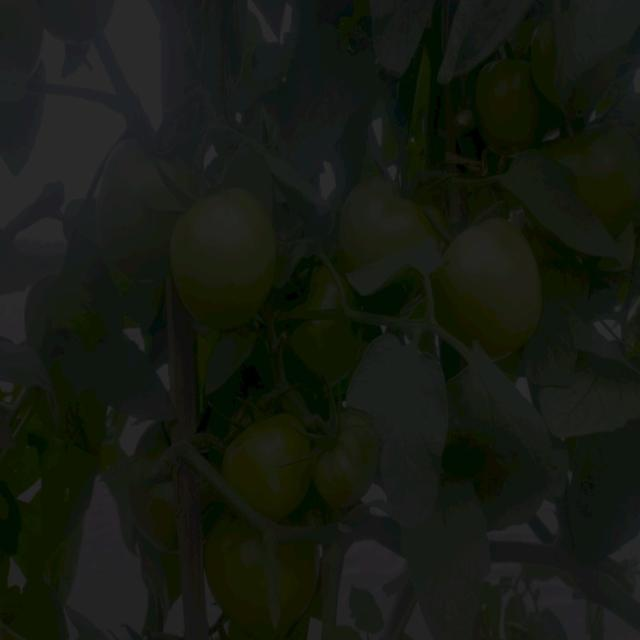tomato: (444, 212, 541, 367), (202, 525, 323, 640), (175, 191, 278, 315), (221, 405, 319, 517), (341, 177, 429, 273), (307, 401, 376, 517), (106, 145, 198, 221), (473, 54, 542, 155), (575, 125, 640, 231), (298, 265, 346, 320), (136, 492, 175, 546)
